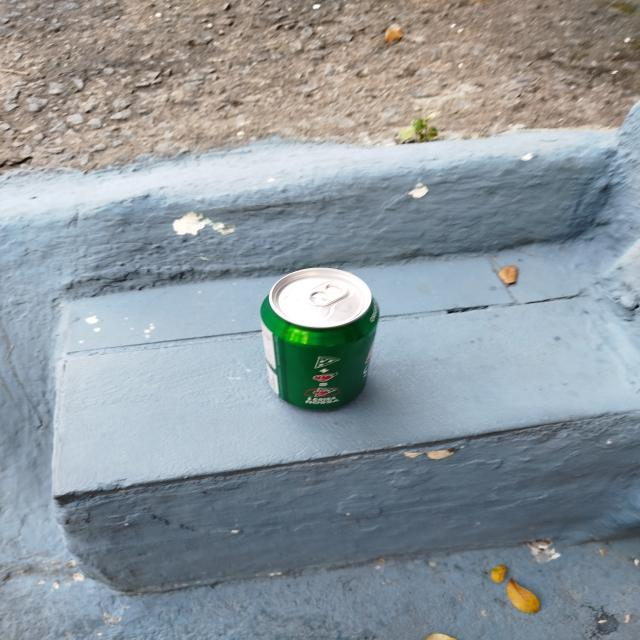Guarana: (260, 267, 380, 409)
